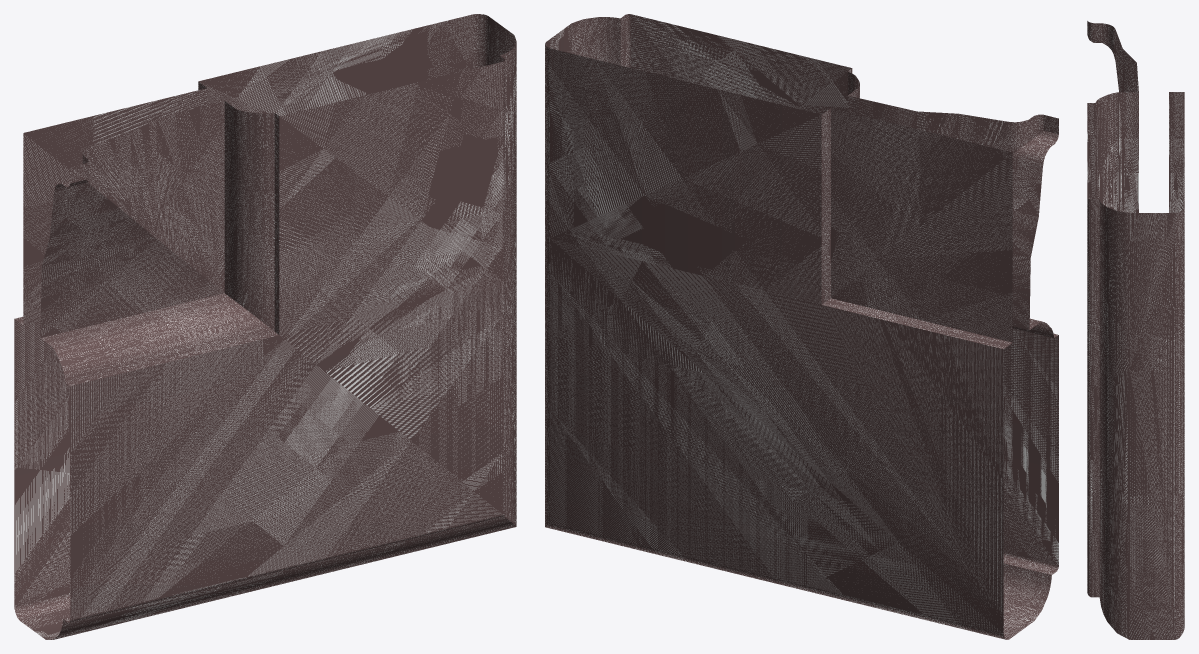
Rendered from original-25.obj.
3 views of the same model, side by side, from view 1: azimuth 30°, elevation 25°; view 2: azimuth 150°, elevation 25°; view 3: azimuth 270°, elevation 25° (orthographic). The views are drawn at different scales.
Visible parts, largest first — view 1: RB_31_BL1/RB_31_BL/mesh14/mesh14-geometry#mesh14-geometry; view 2: RB_31_BL1/RB_31_BL/mesh14/mesh14-geometry#mesh14-geometry; view 3: RB_31_BL1/RB_31_BL/mesh14/mesh14-geometry#mesh14-geometry.
Part boxes in pixels (box(x1,y1,x2,y2)): RB_31_BL1/RB_31_BL/mesh14/mesh14-geometry#mesh14-geometry: box(14, 14, 516, 639); RB_31_BL1/RB_31_BL/mesh14/mesh14-geometry#mesh14-geometry: box(545, 14, 1058, 639); RB_31_BL1/RB_31_BL/mesh14/mesh14-geometry#mesh14-geometry: box(1087, 21, 1184, 639).
Size of the model in its own units: 0.1793 by 0.1793 by 0.0371.
